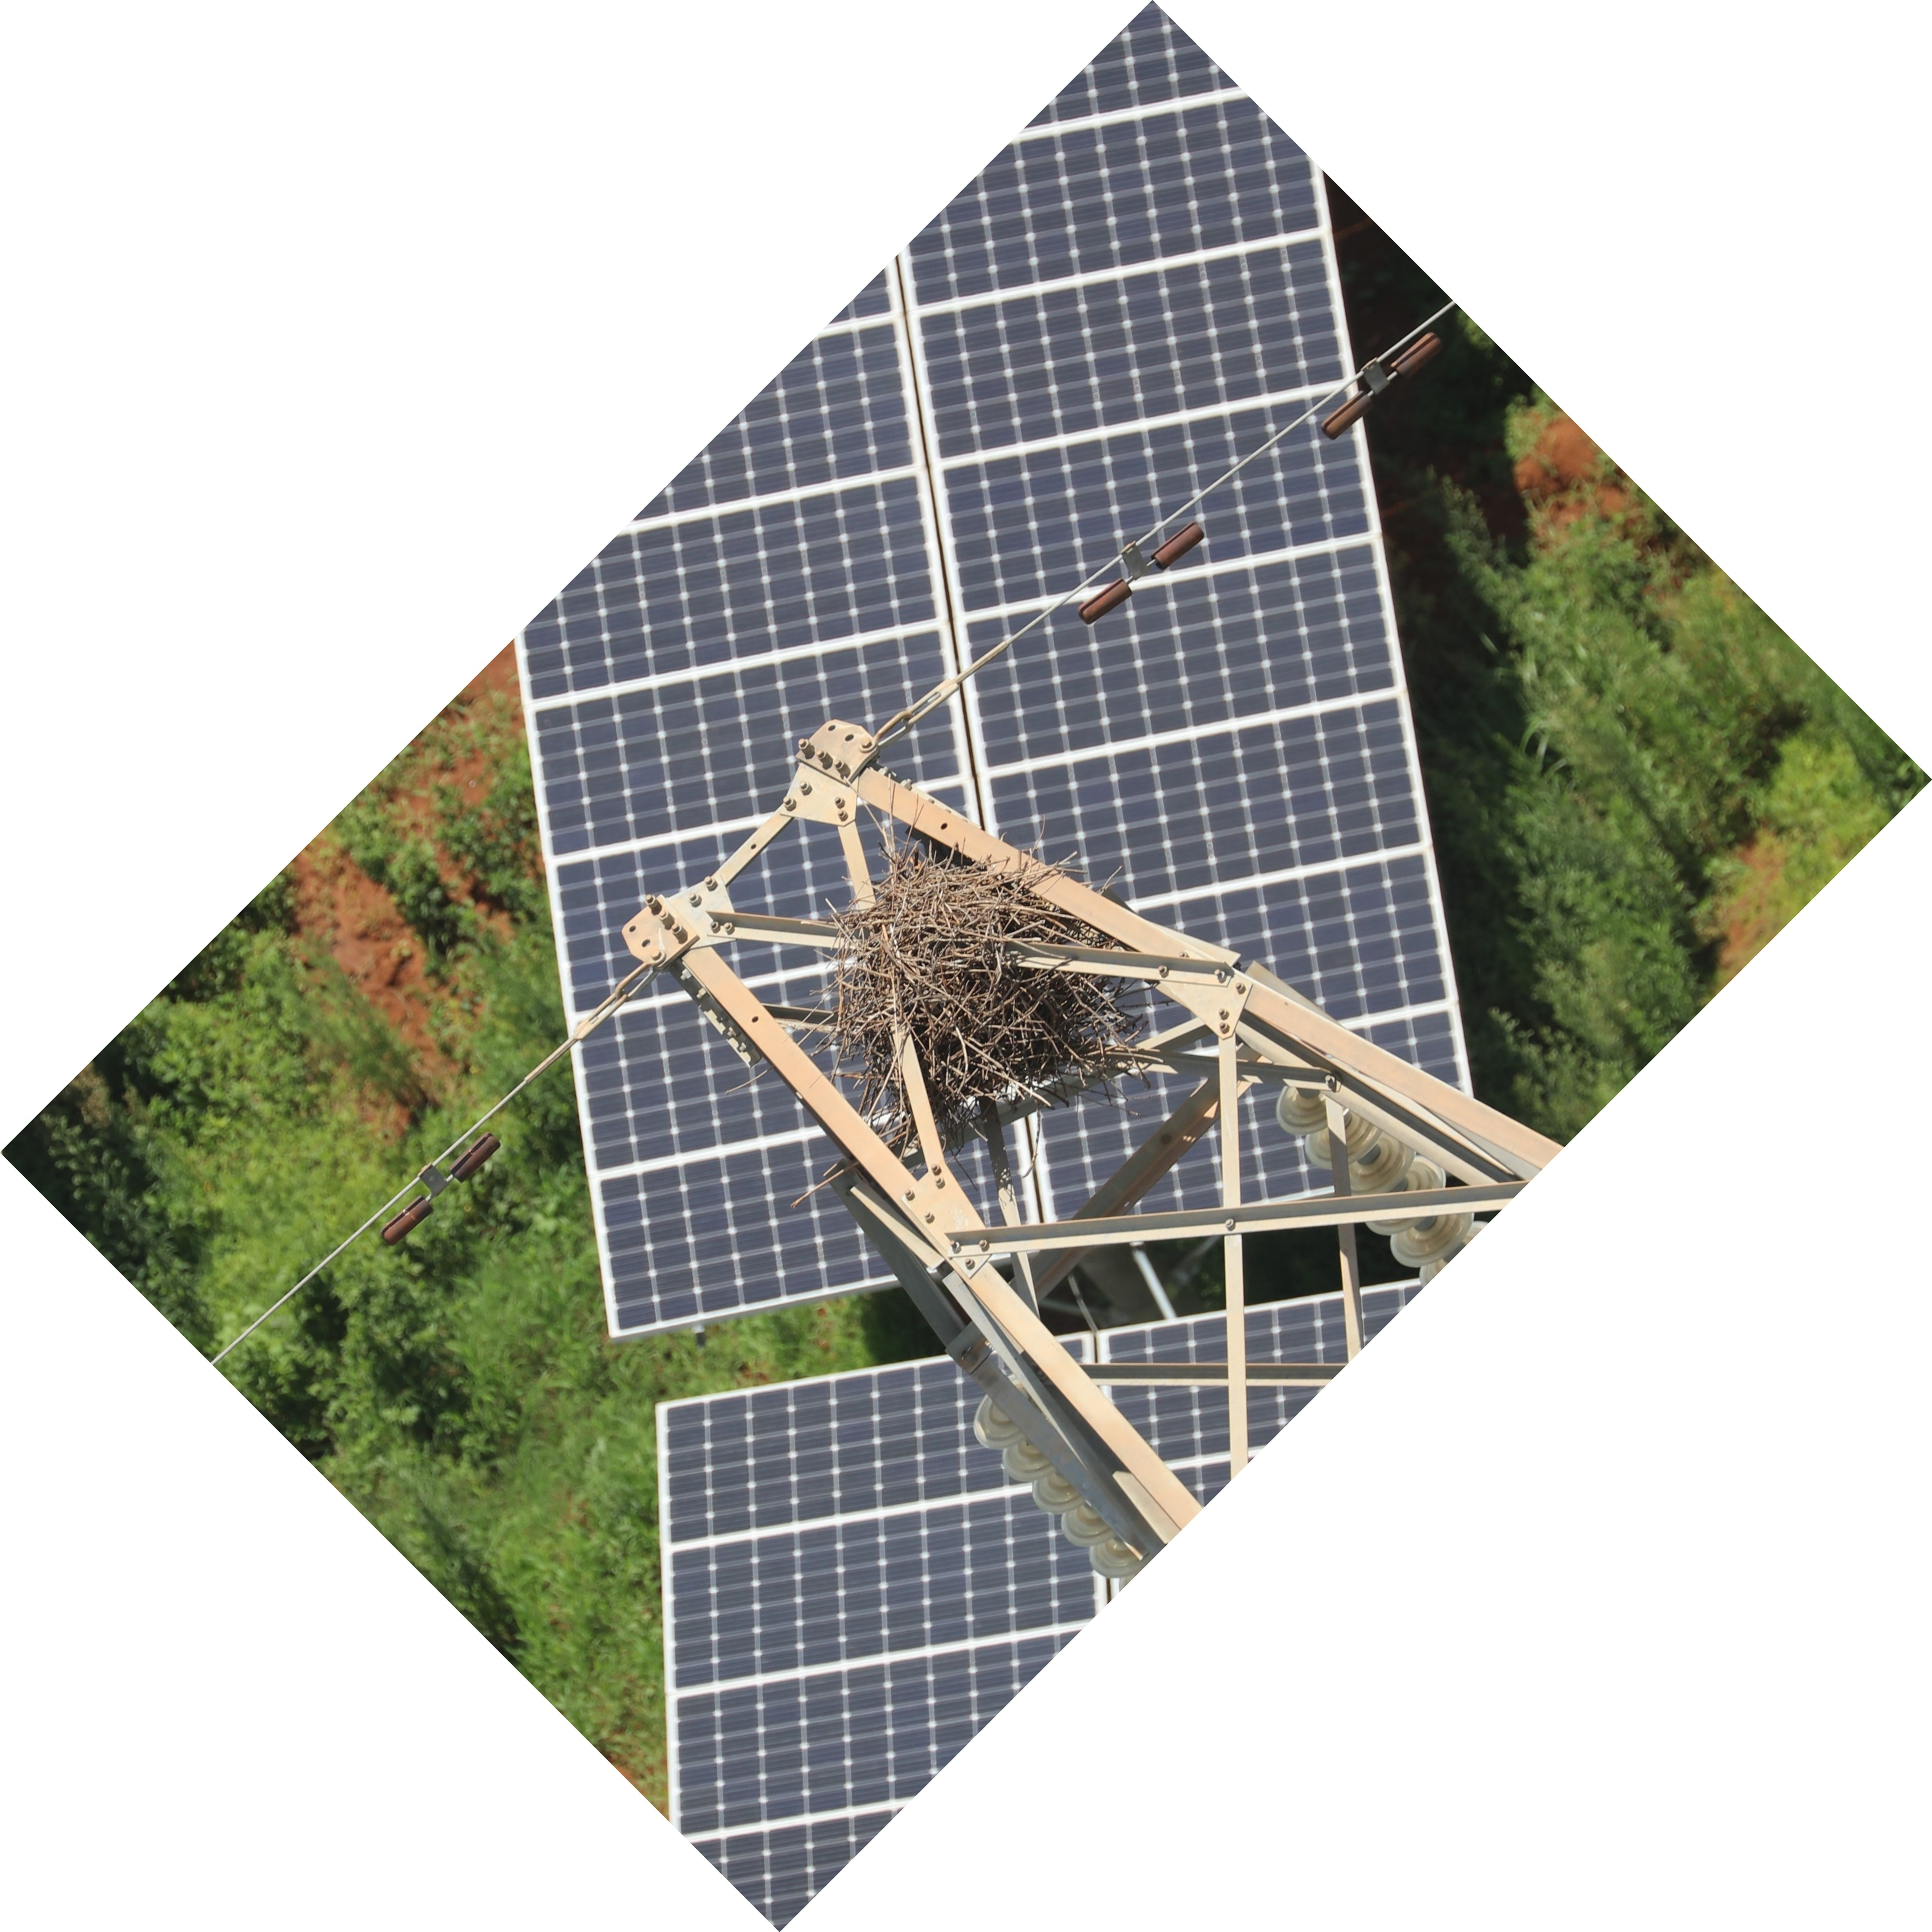niaowo: (801, 840, 1152, 1136)
